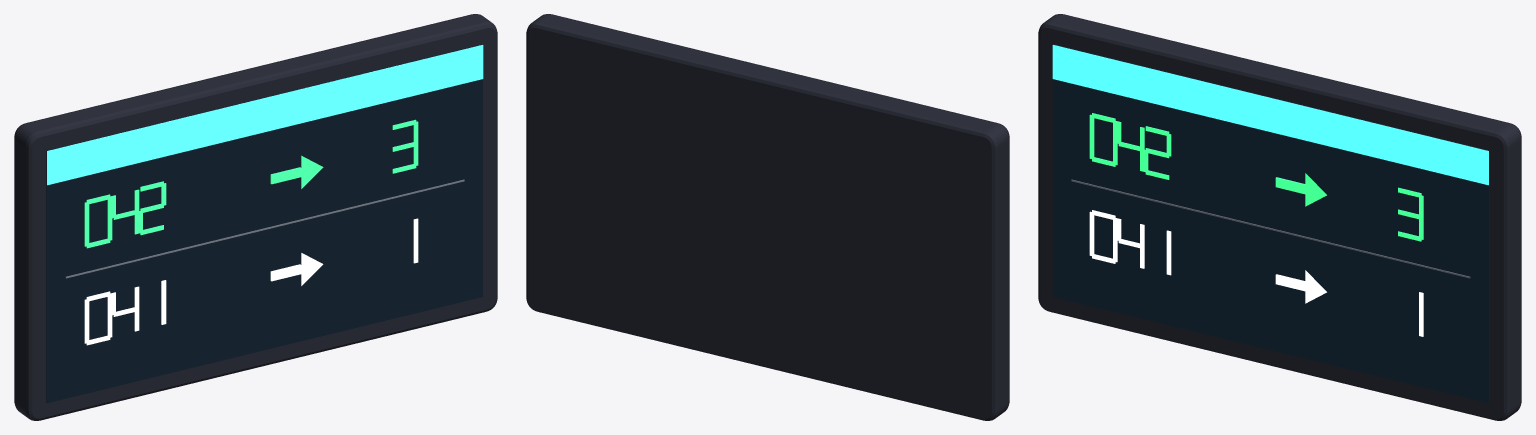
Rendered from hos-018.glb.
The picture shows the model from 3 angles, left to right: view 1: azimuth 30°, elevation 25°; view 2: azimuth 150°, elevation 25°; view 3: azimuth 330°, elevation 25°; orthographic projection.
Parts seen in each view (by area): view 1: monitor_screen, plastic_dark, trace_spo2, trace_ecg, display_white, locker_grey; view 2: plastic_dark; view 3: monitor_screen, plastic_dark, trace_spo2, trace_ecg, display_white, locker_grey.
Part boxes in pixels (x1=…): monitor_screen: x1=46, y1=44, x2=482, y2=403; plastic_dark: x1=14, y1=14, x2=497, y2=420; trace_spo2: x1=47, y1=45, x2=483, y2=185; trace_ecg: x1=84, y1=119, x2=418, y2=248; display_white: x1=84, y1=218, x2=418, y2=345; locker_grey: x1=65, y1=179, x2=464, y2=278; plastic_dark: x1=526, y1=14, x2=1009, y2=420; monitor_screen: x1=1053, y1=44, x2=1489, y2=403; plastic_dark: x1=1038, y1=14, x2=1521, y2=420; trace_spo2: x1=1052, y1=45, x2=1488, y2=185; trace_ecg: x1=1089, y1=113, x2=1423, y2=241; display_white: x1=1089, y1=210, x2=1423, y2=336; locker_grey: x1=1071, y1=179, x2=1470, y2=278.
Size of the model in its own units: 1.02 by 0.596 by 0.0676.
